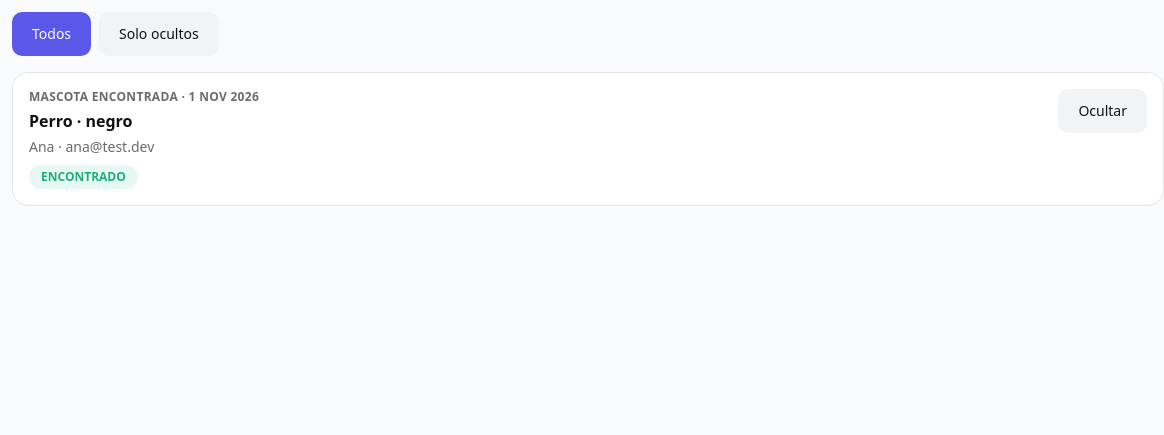
AdminReportes (HU18) › AC1: ocultar con motivo lo marca como oculto
Click the button "Ocultar" at (1103, 111), box [1058,89,1147,133]
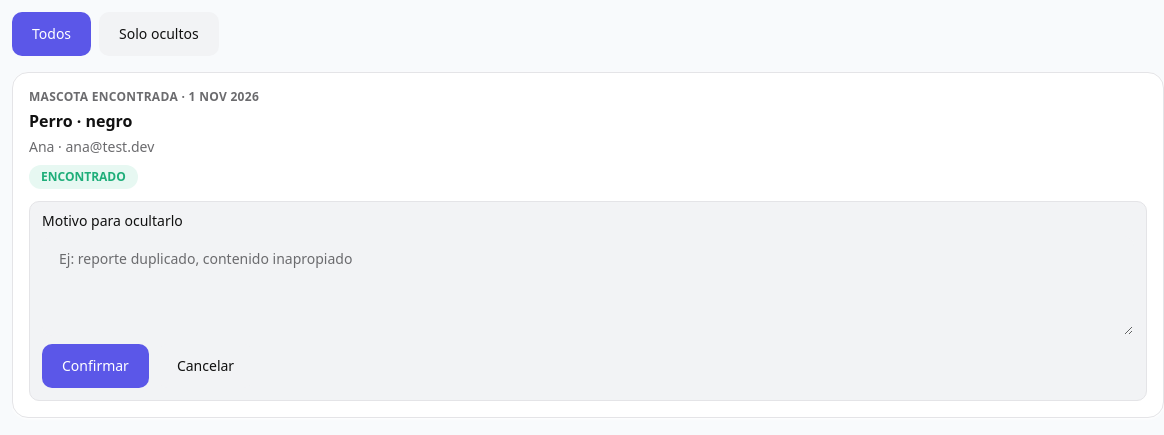
Type " Duplicado " into the text box labelled "Motivo para ocultarlo" at (588, 286), box [42,236,1134,336]
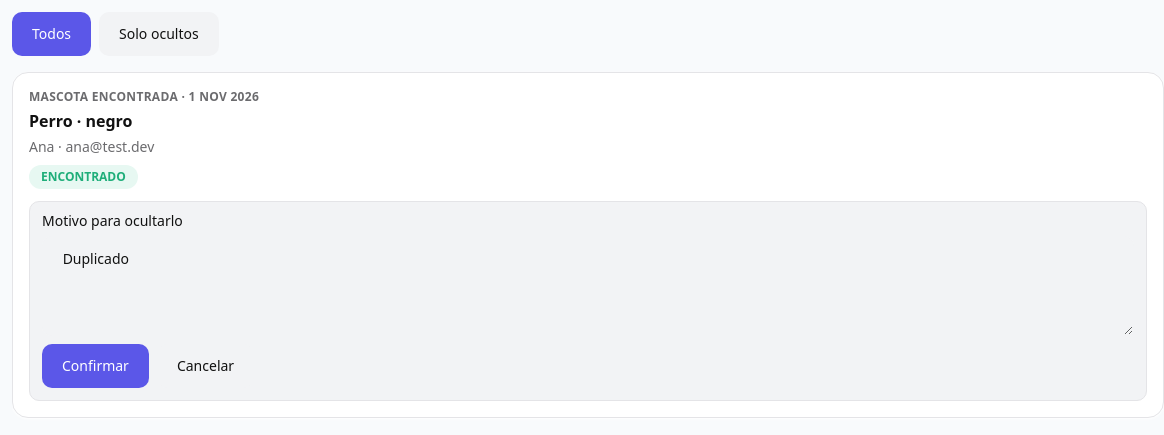
Click the button "Confirmar" at (95, 366), box [42,344,149,388]
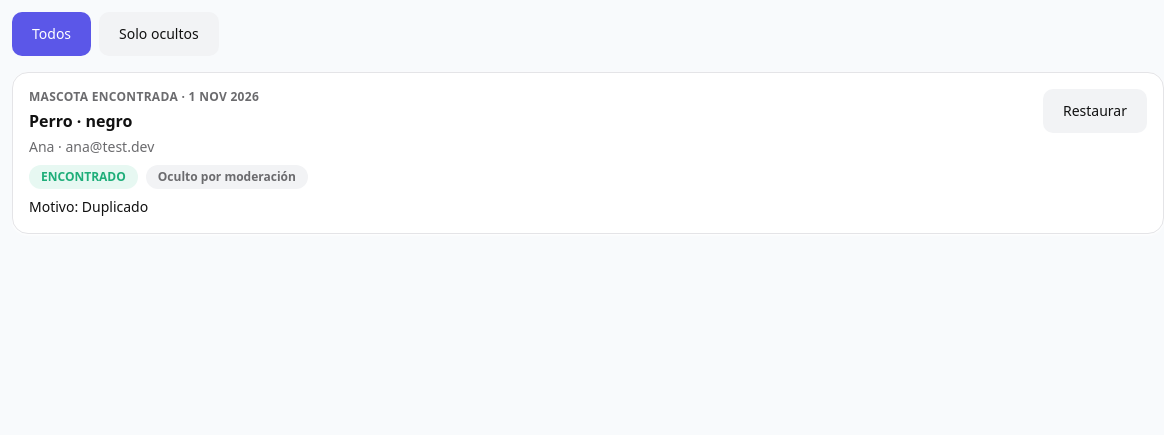
Now the text "Oculto por moderación" is shown, box [146,165,308,189]
Now the list item with test id "admin-reporte-r-1" shows "Motivo: Duplicado", box [12,72,1163,234]
Now the button "Restaurar" is shown, box [1043,89,1147,133]
